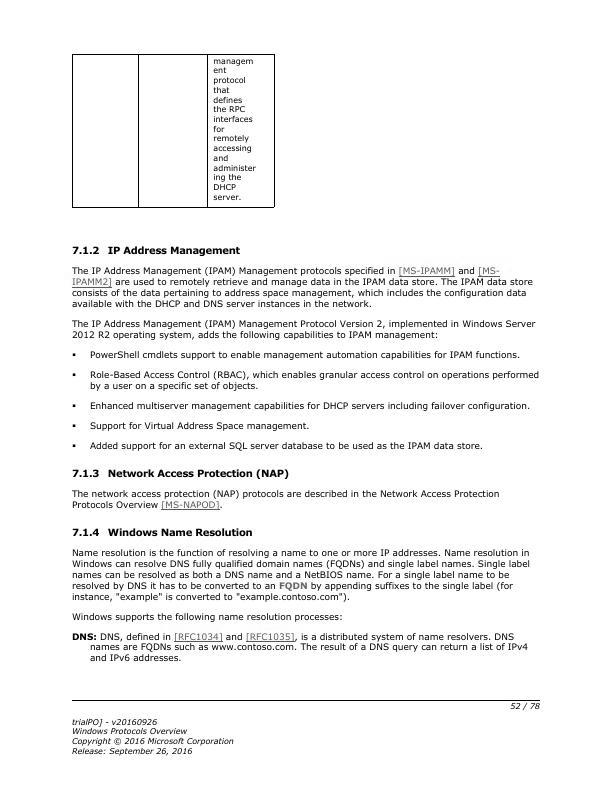table: (70, 50, 278, 210)
text: (68, 546, 530, 602), (70, 263, 534, 310), (68, 631, 530, 664), (86, 368, 543, 394), (68, 317, 537, 342), (68, 486, 502, 513), (67, 716, 234, 757), (86, 399, 532, 414), (86, 348, 523, 361), (87, 439, 487, 452), (68, 609, 345, 622), (86, 418, 311, 433), (68, 466, 292, 481), (68, 524, 256, 541), (68, 243, 243, 258)
